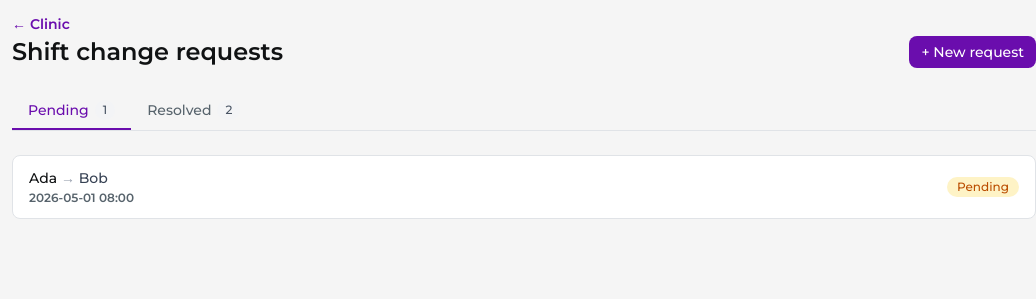
Scenario: RequestsInboxPage › splits pending vs resolved across tabs
Expected: the heading "Shift change requests" is shown, [12,36,283,68]
Expected: the number of list items is 1, [29,169,1019,205]
// Click Resolved tab — now shows r2 + r3
Step 1. Click the tab "Resolved 2" → (194, 111), box [131,92,256,130]
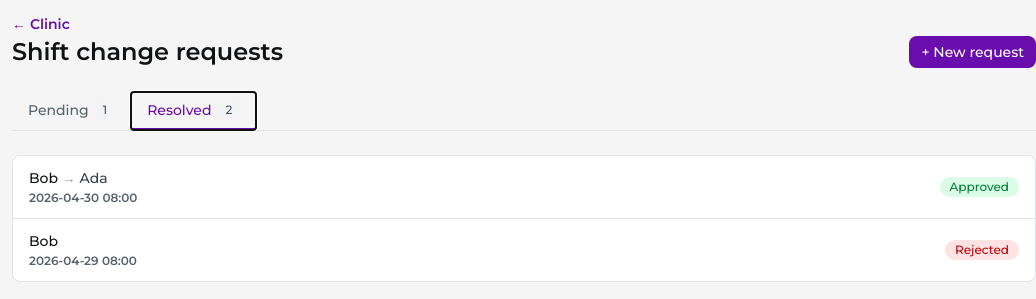
Now the number of list items is 2, box [13,156,1035,219]; [29,232,1019,268]
Now the text "Approved" is shown, box [940,177,1019,197]
Now the text "Rejected" is shown, box [945,240,1019,260]
